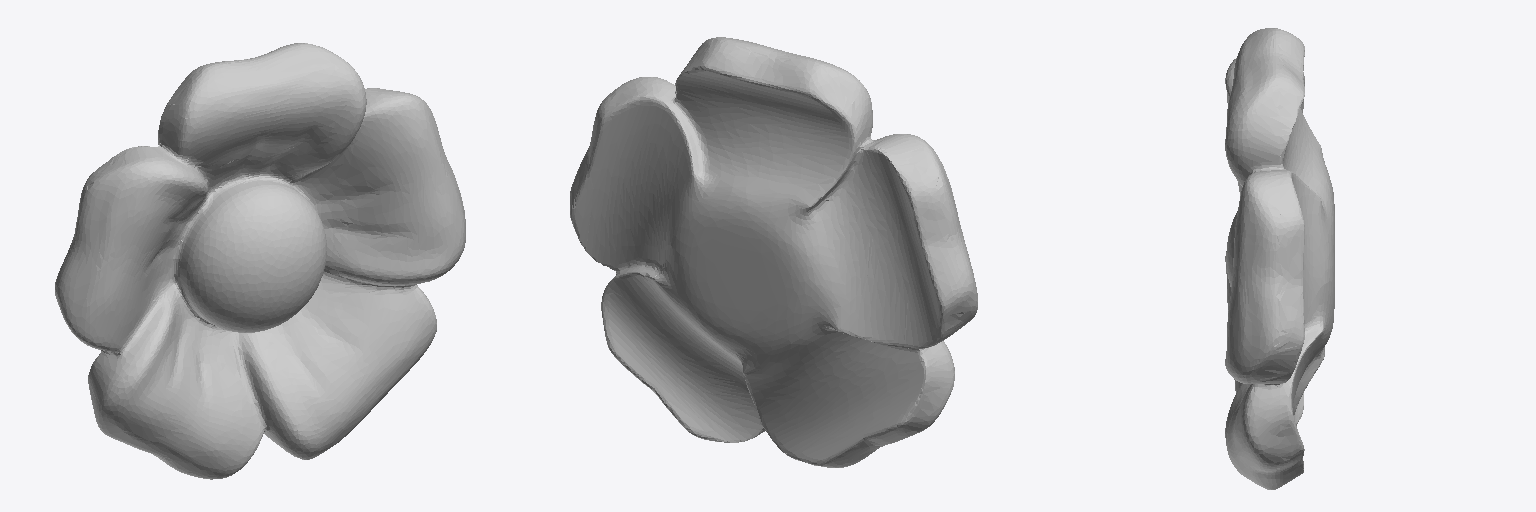
3 views of the same model, side by side, from view 1: azimuth 30°, elevation 25°; view 2: azimuth 150°, elevation 25°; view 3: azimuth 270°, elevation 25° (orthographic).
Parts seen in each view (by area): view 1: mmGroup0; view 2: mmGroup0; view 3: mmGroup0.
Boxes of the visible parts, x1,y1,x2,y2 form: mmGroup0: [55, 43, 465, 479]; mmGroup0: [570, 37, 977, 467]; mmGroup0: [1225, 28, 1334, 489].
Size of the model in its own units: 1.52 by 1.47 by 0.3603.